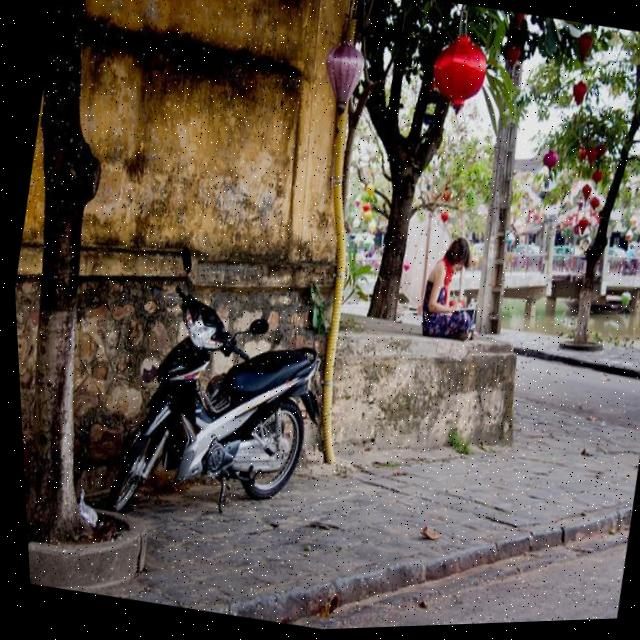motorcycle: (89, 263, 359, 551)
